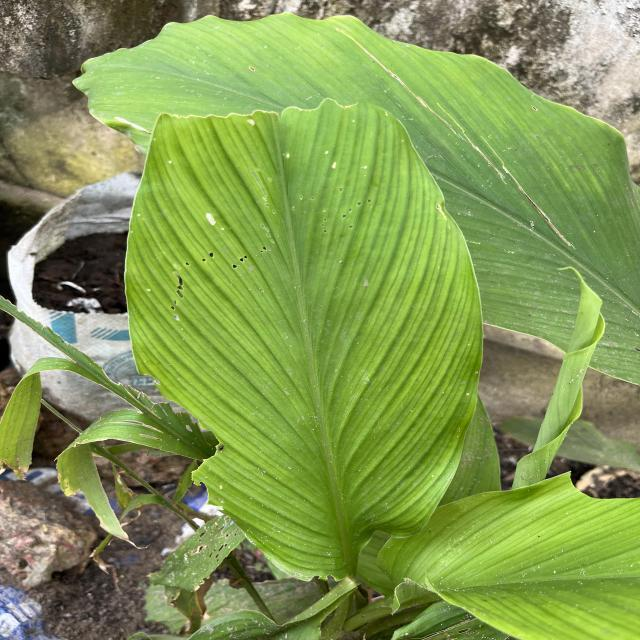Curcuma longa: (45, 0, 640, 397), (108, 94, 496, 594)
